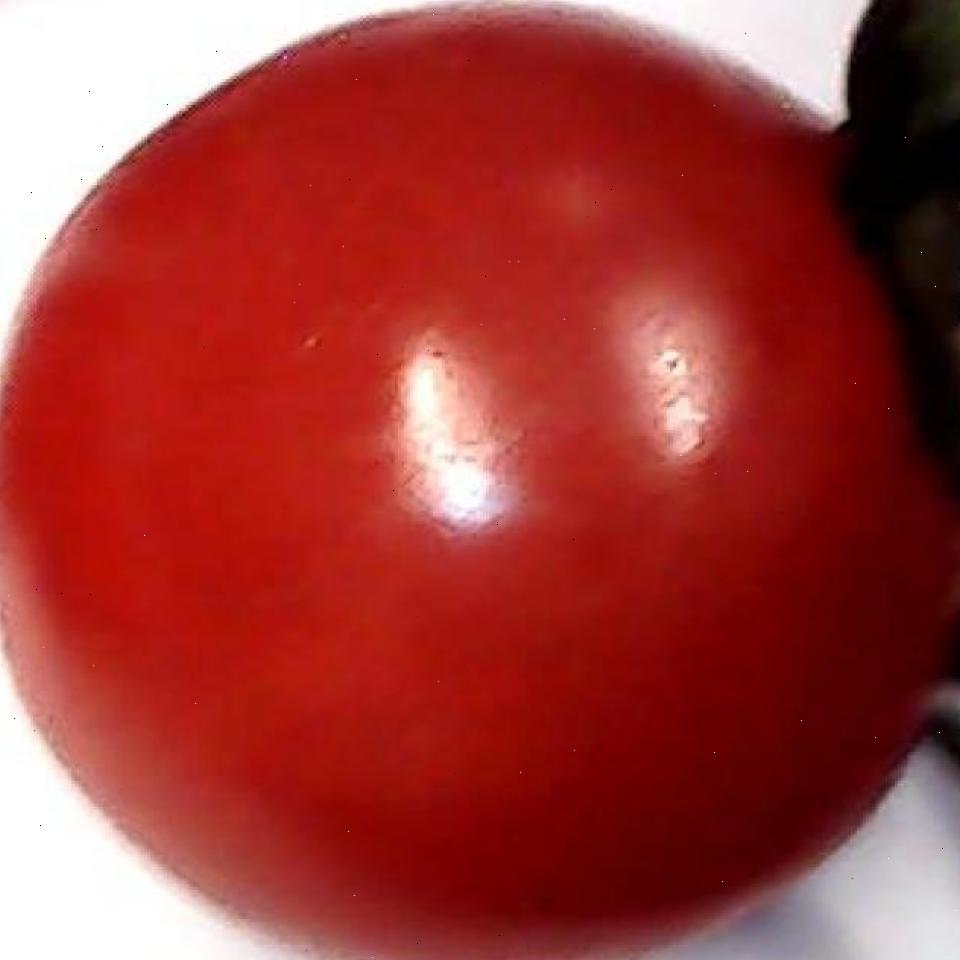Healthy: (0, 6, 884, 960)
